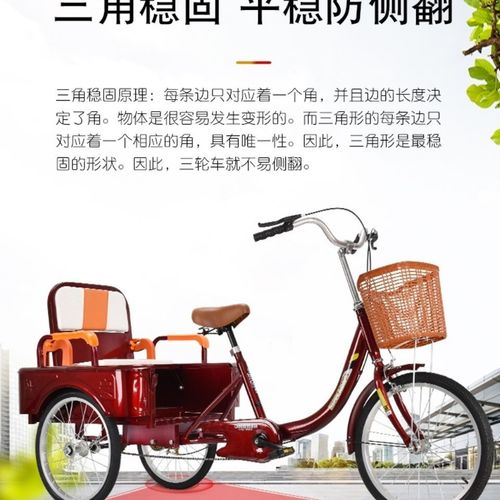empty: (18, 223, 478, 500)
